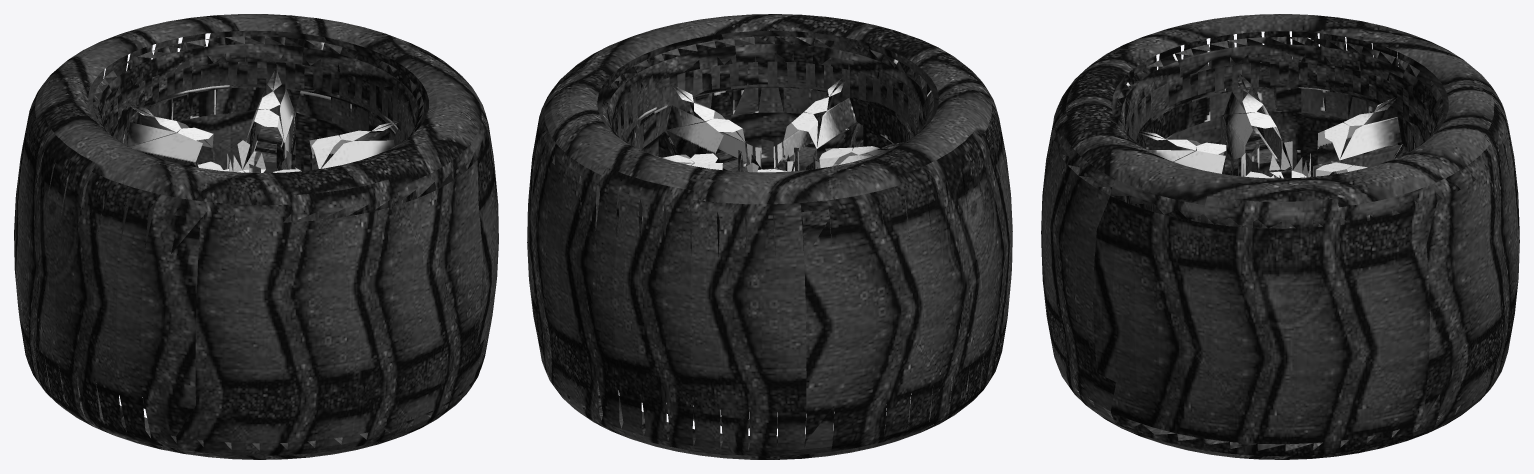
The model's file is wheel_lb.dae.
3 renders of one model, left to right at view 1: azimuth 30°, elevation 25°; view 2: azimuth 150°, elevation 25°; view 3: azimuth 270°, elevation 25°, orthographic.
Parts seen in each view (by area): view 1: wheel_lb; view 2: wheel_lb; view 3: wheel_lb.
Part boxes in pixels (left/top/right/bottom): wheel_lb: left=14, top=14, right=498, bottom=459; wheel_lb: left=527, top=14, right=1012, bottom=459; wheel_lb: left=1041, top=14, right=1519, bottom=459.
Size of the model in its own units: 0.1573 by 0.1573 by 0.1017.
Materials: 1 (1 with a texture image).
